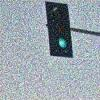traffic lights: (44, 0, 73, 56)
